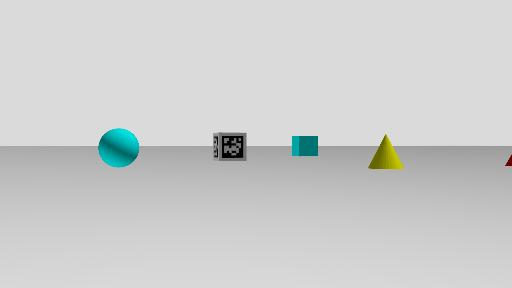yellow_cone: (367, 133, 404, 169)
